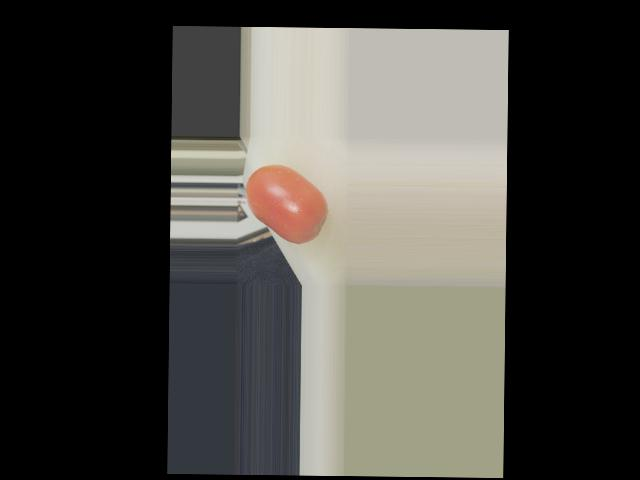tomato: (244, 164, 328, 244)
